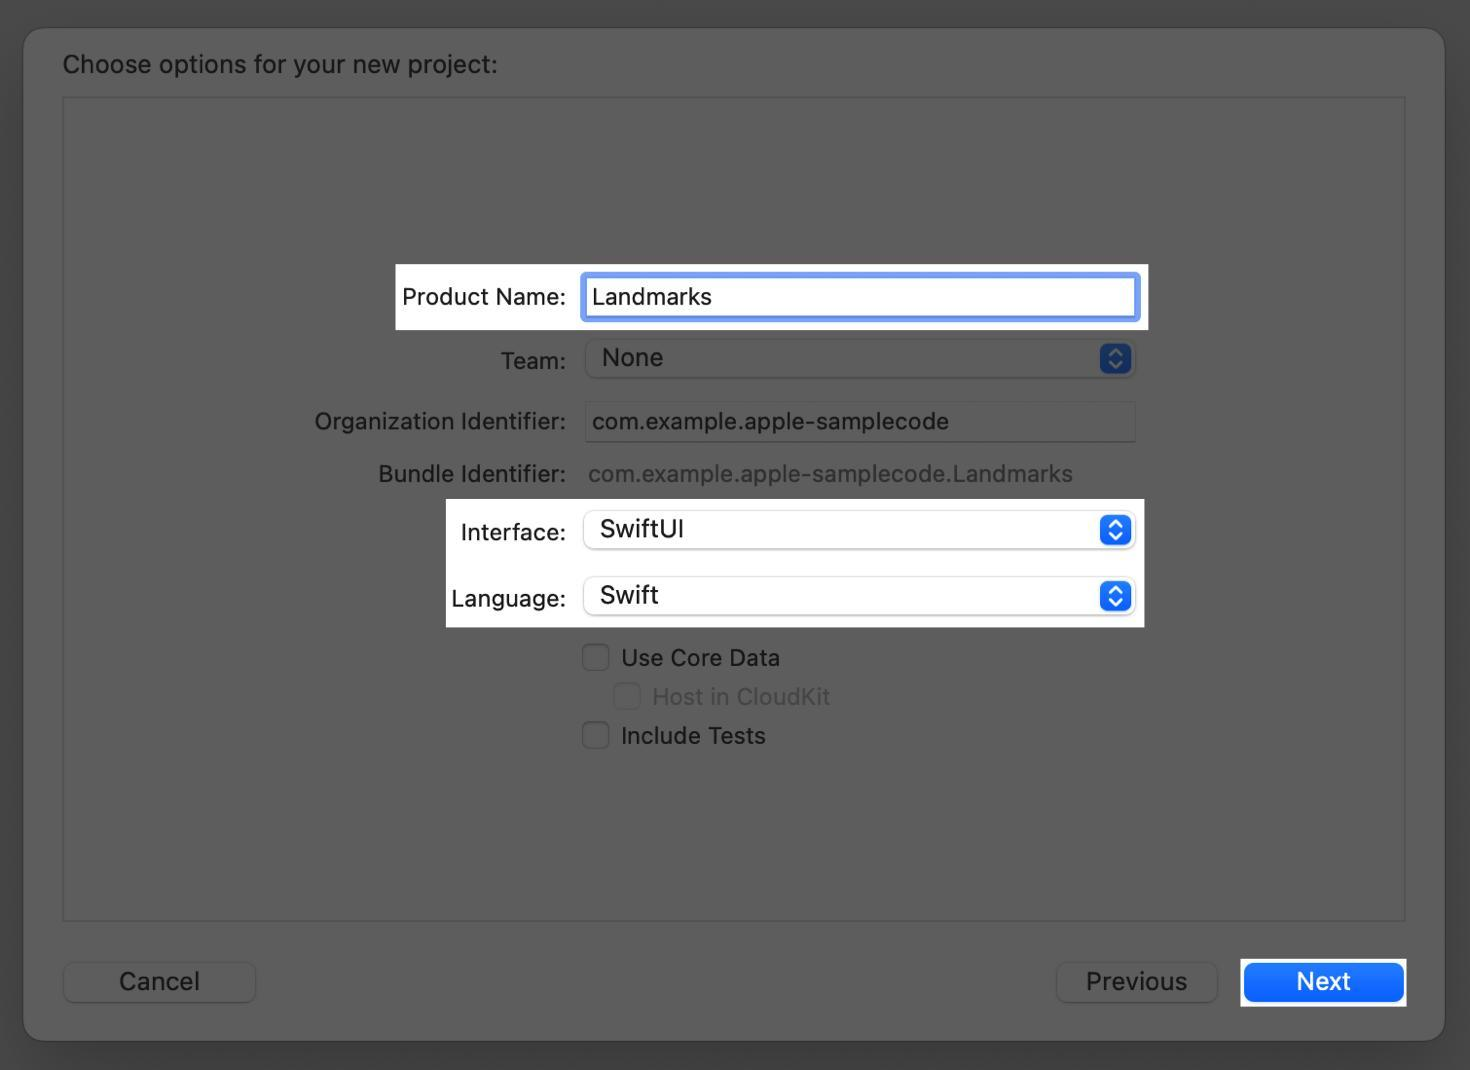button: (68, 965, 258, 1007), (1055, 958, 1222, 1002), (1245, 962, 1410, 1005)
checkbox: (612, 683, 643, 713), (582, 722, 611, 749), (583, 645, 609, 673)
dropdown: (591, 341, 1134, 381), (588, 512, 1140, 551), (587, 579, 1134, 617)
input: (585, 277, 1141, 321), (585, 408, 1145, 448), (582, 457, 1137, 494)
label: (57, 41, 522, 90), (302, 402, 577, 444), (367, 457, 571, 497), (398, 277, 575, 317), (622, 724, 774, 757), (655, 684, 834, 710), (623, 647, 782, 672), (500, 342, 572, 387), (454, 521, 570, 546), (449, 589, 568, 613)
